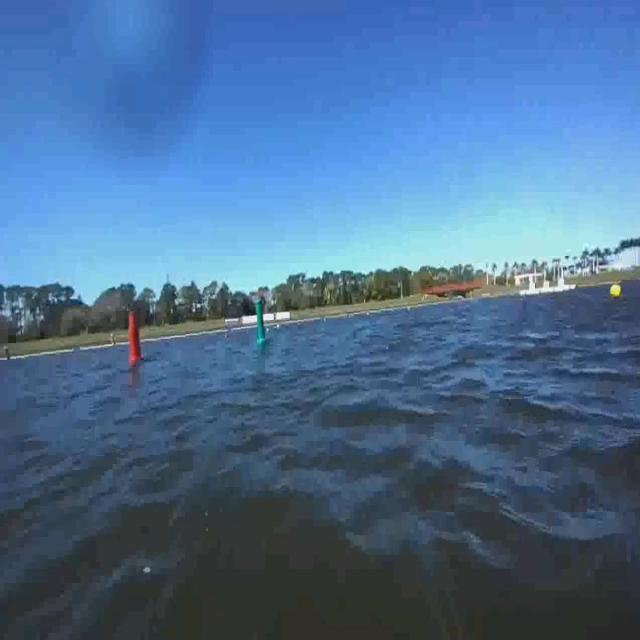green-column-buoy: (256, 300, 270, 348)
red-column-buoy: (128, 311, 144, 363)
yellow-buoy: (612, 281, 624, 300)
